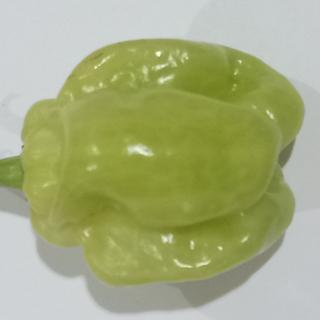Grade-A: (18, 34, 307, 286)
